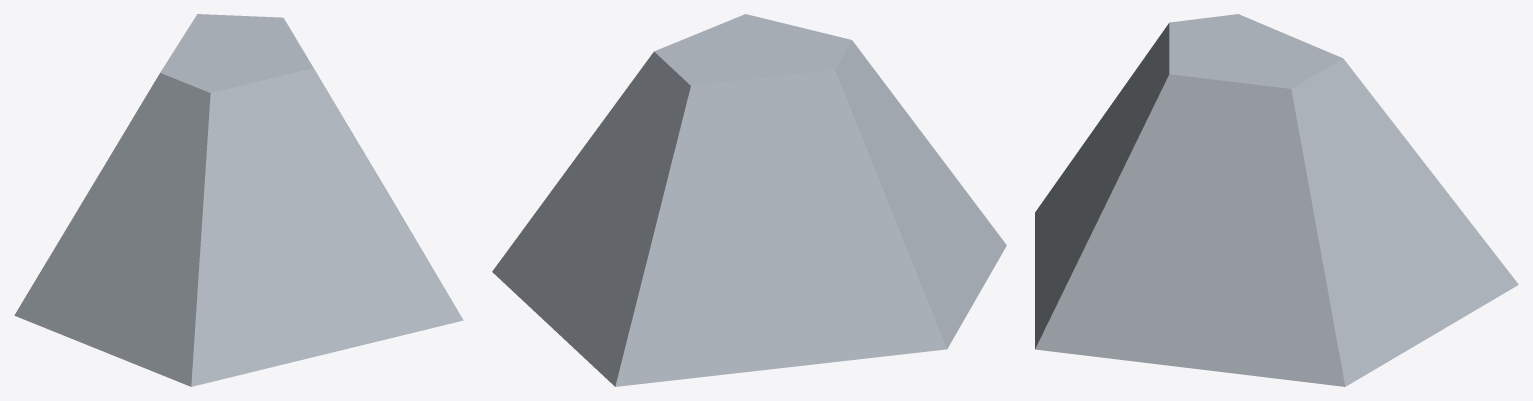
Rendered from Rock_4_01.obj.
The picture shows the model from 3 angles, left to right: view 1: azimuth 30°, elevation 25°; view 2: azimuth 150°, elevation 25°; view 3: azimuth 270°, elevation 25°; orthographic projection. The views are drawn at different scales.
Parts seen in each view (by area): view 1: Mesh1 Rock_4 Model; view 2: Mesh1 Rock_4 Model; view 3: Mesh1 Rock_4 Model.
Boxes of the visible parts, x1,y1,x2,y2 form: Mesh1 Rock_4 Model: [14, 14, 463, 386]; Mesh1 Rock_4 Model: [492, 14, 1006, 386]; Mesh1 Rock_4 Model: [1035, 14, 1518, 386].
Bounding box in the file's own units: 1 × 0.53 × 1.
Materials: 1 (1 with a texture image).
